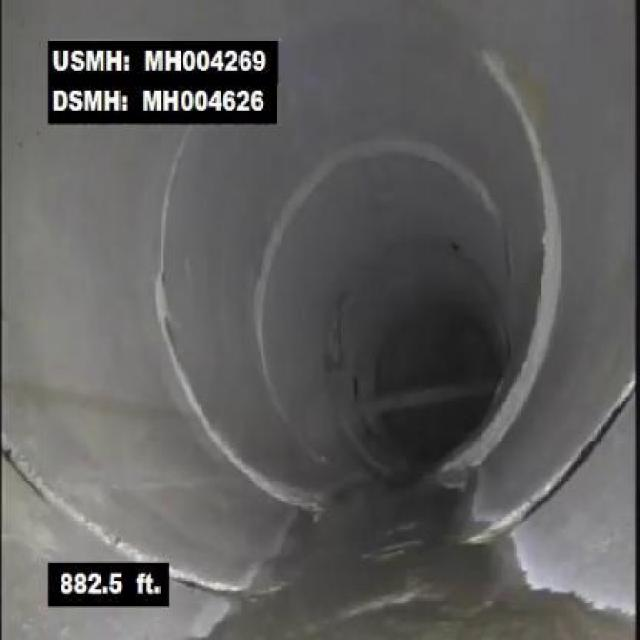Joint offset: (502, 152, 569, 426), (443, 410, 512, 468)
